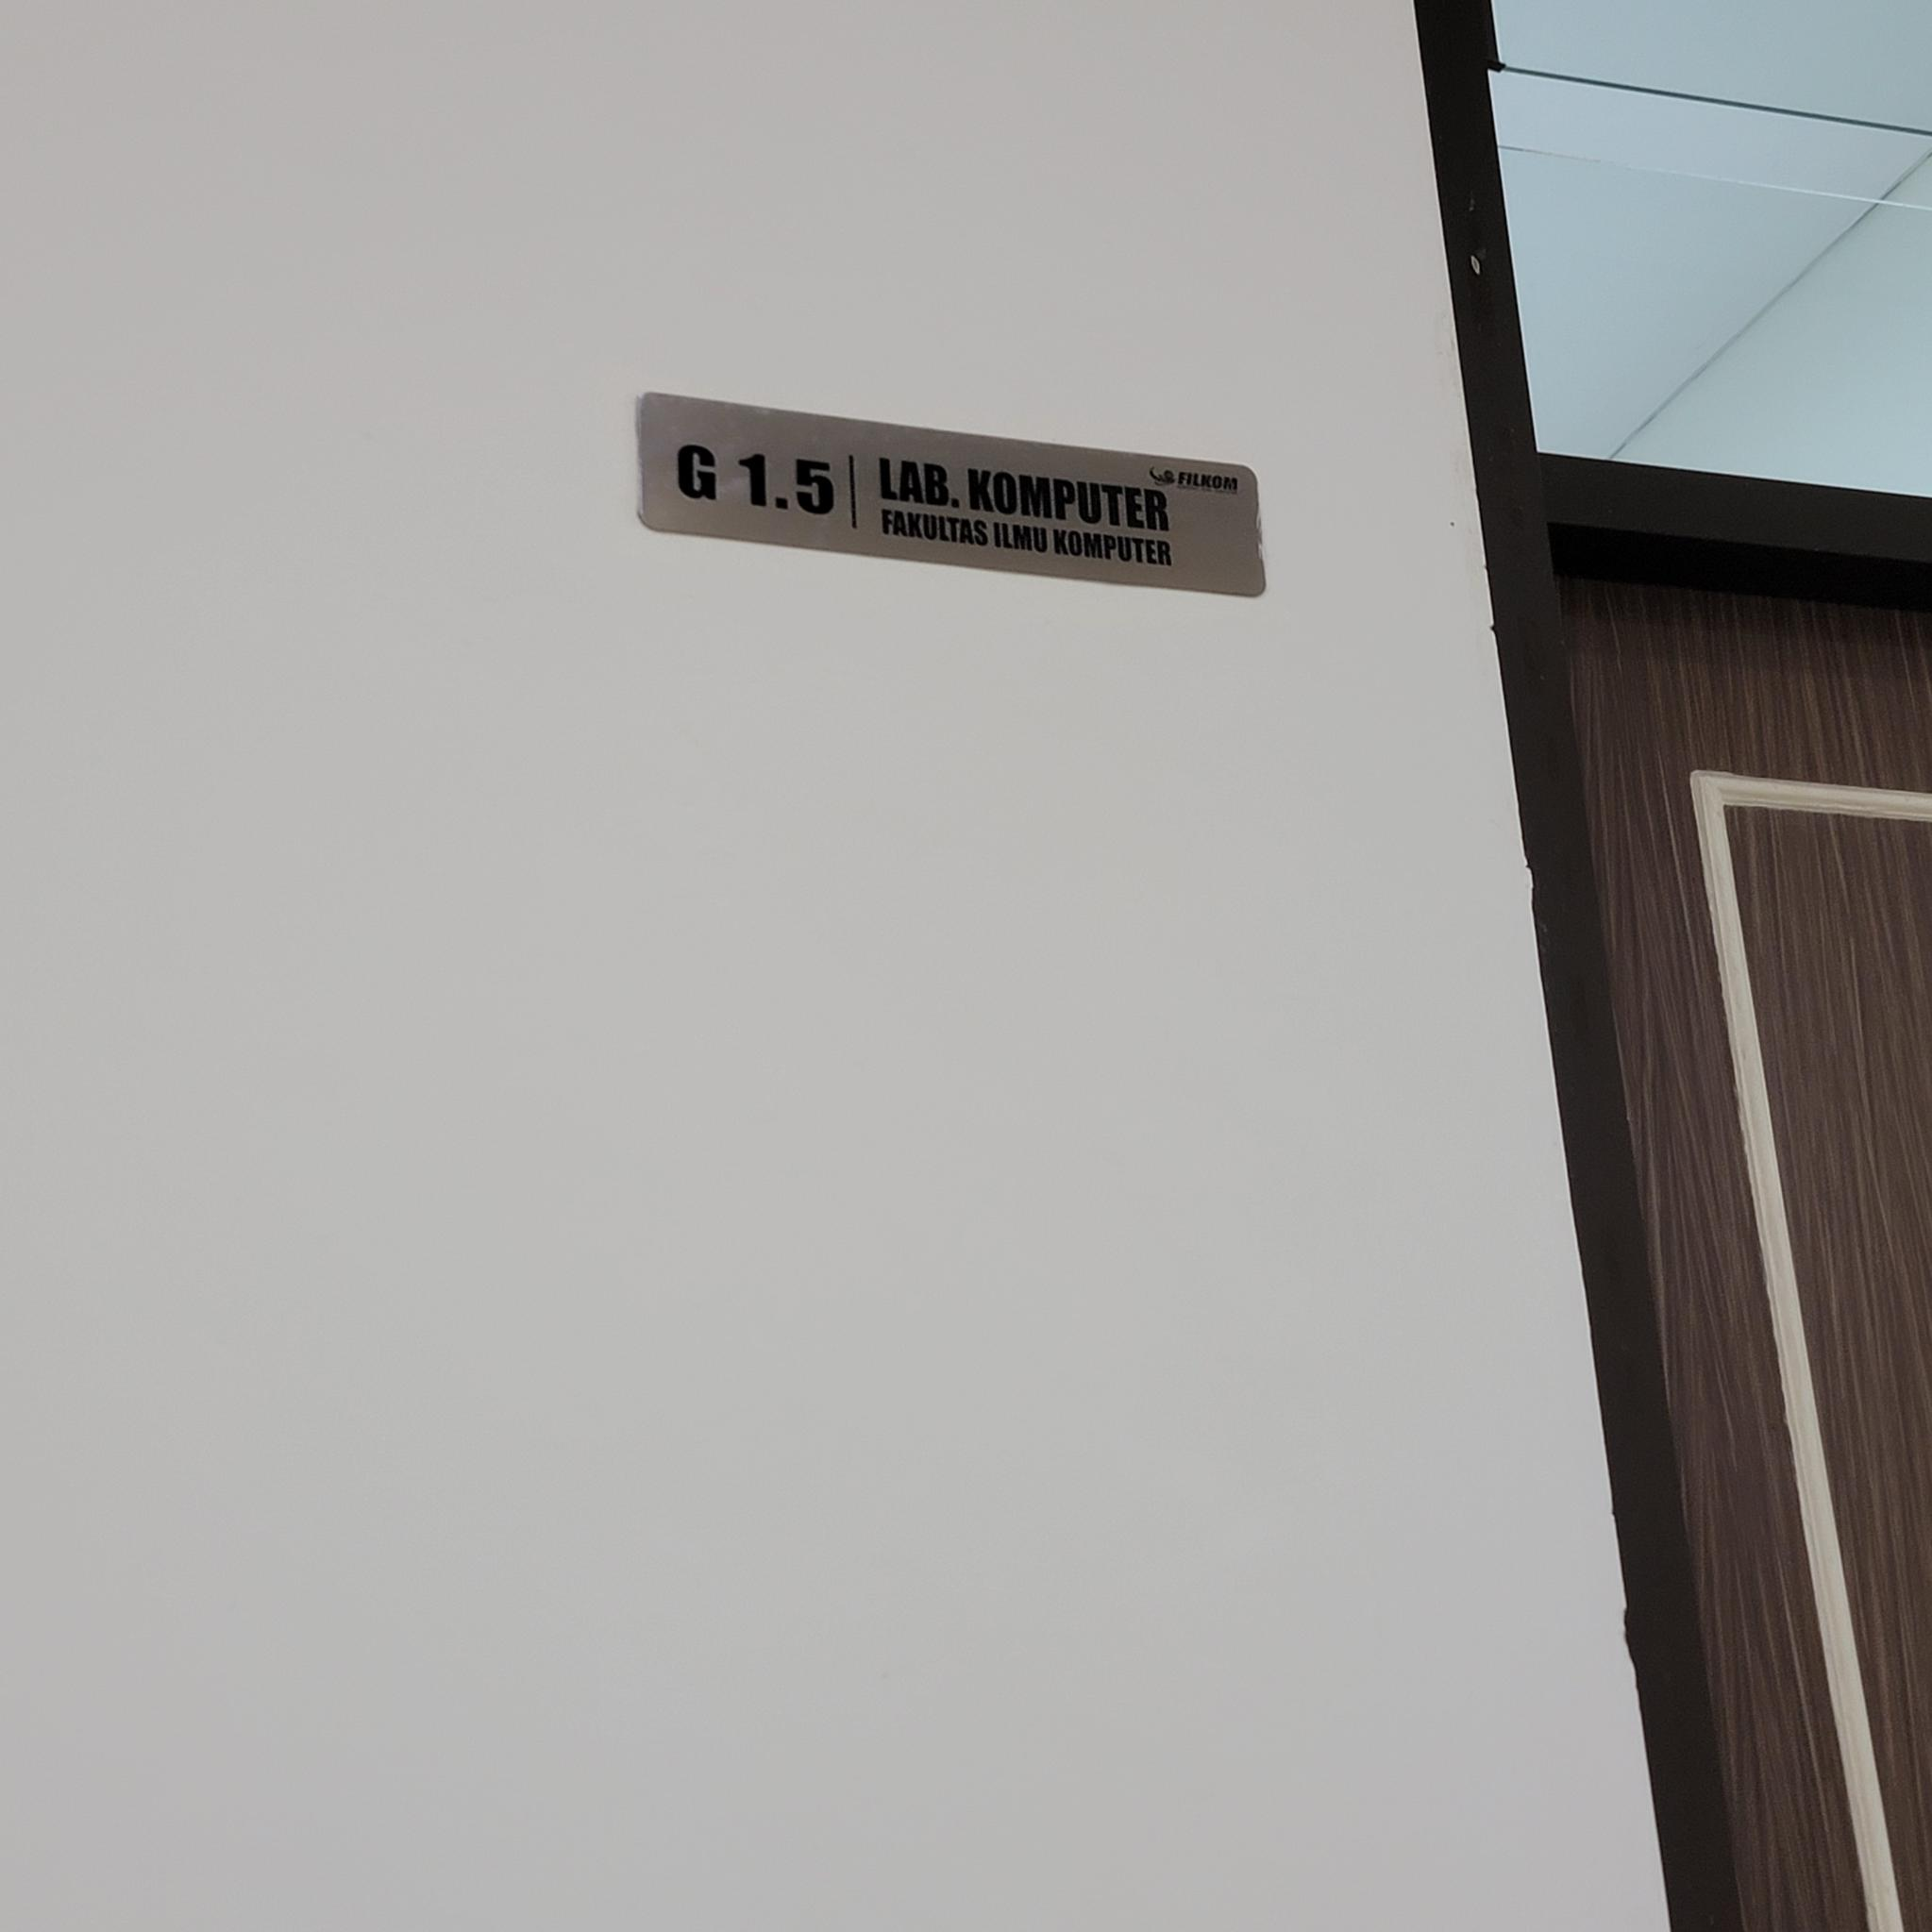plate: (637, 387, 1269, 603)
